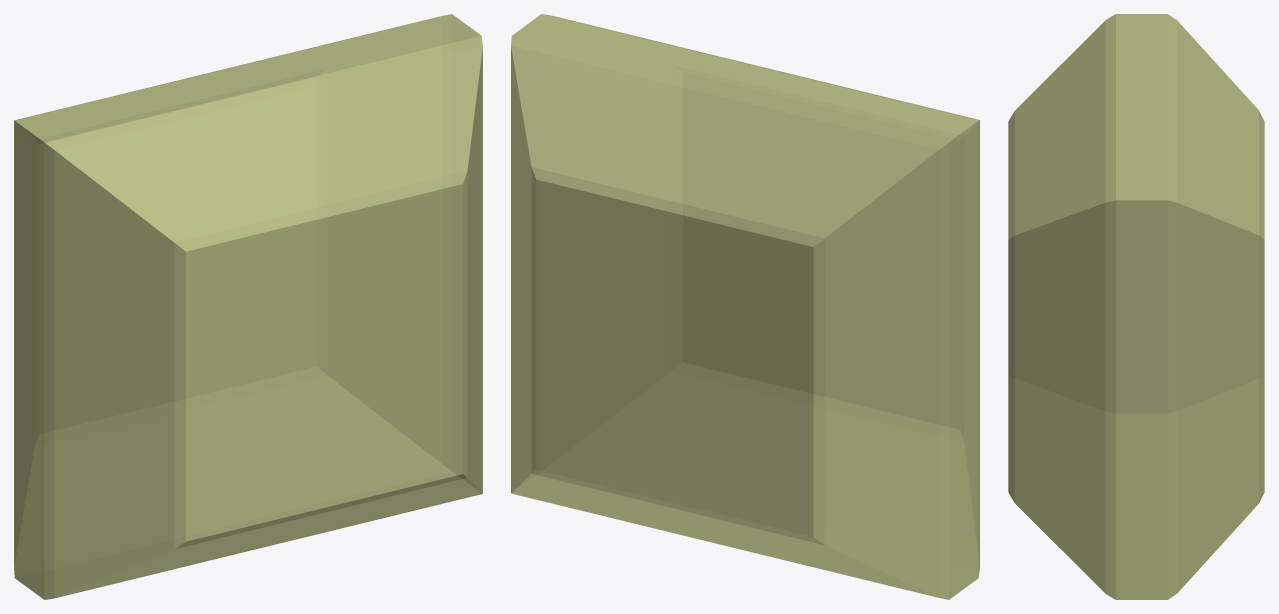
The model's file is houseki0202.fbx.
The picture shows the model from 3 angles, left to right: view 1: azimuth 30°, elevation 25°; view 2: azimuth 150°, elevation 25°; view 3: azimuth 270°, elevation 25°; orthographic projection. The views are drawn at different scales.
Parts seen in each view (by area): view 1: pCube1; view 2: pCube1; view 3: pCube1.
Boxes of the visible parts, box(x1,y1,x2,y2) form: pCube1: box(14, 14, 482, 599); pCube1: box(511, 14, 979, 599); pCube1: box(1008, 14, 1264, 599).
Size of the model in its own units: 66.37 by 66.37 by 38.53.
